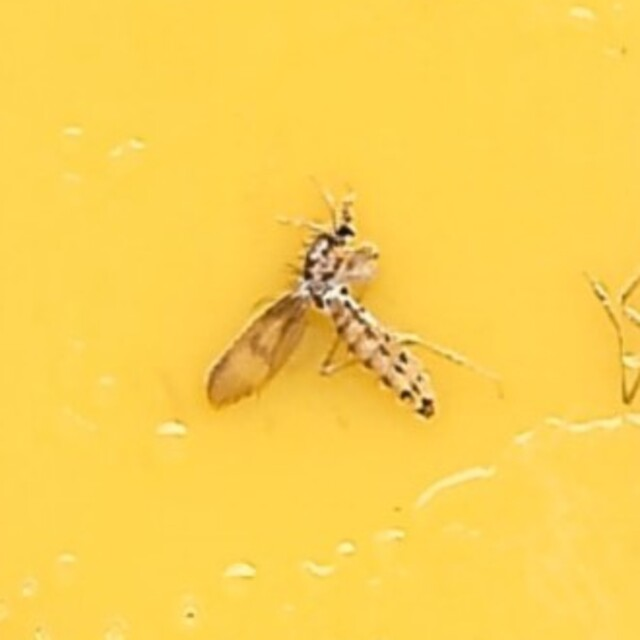Nematocera: (194, 206, 446, 434)
